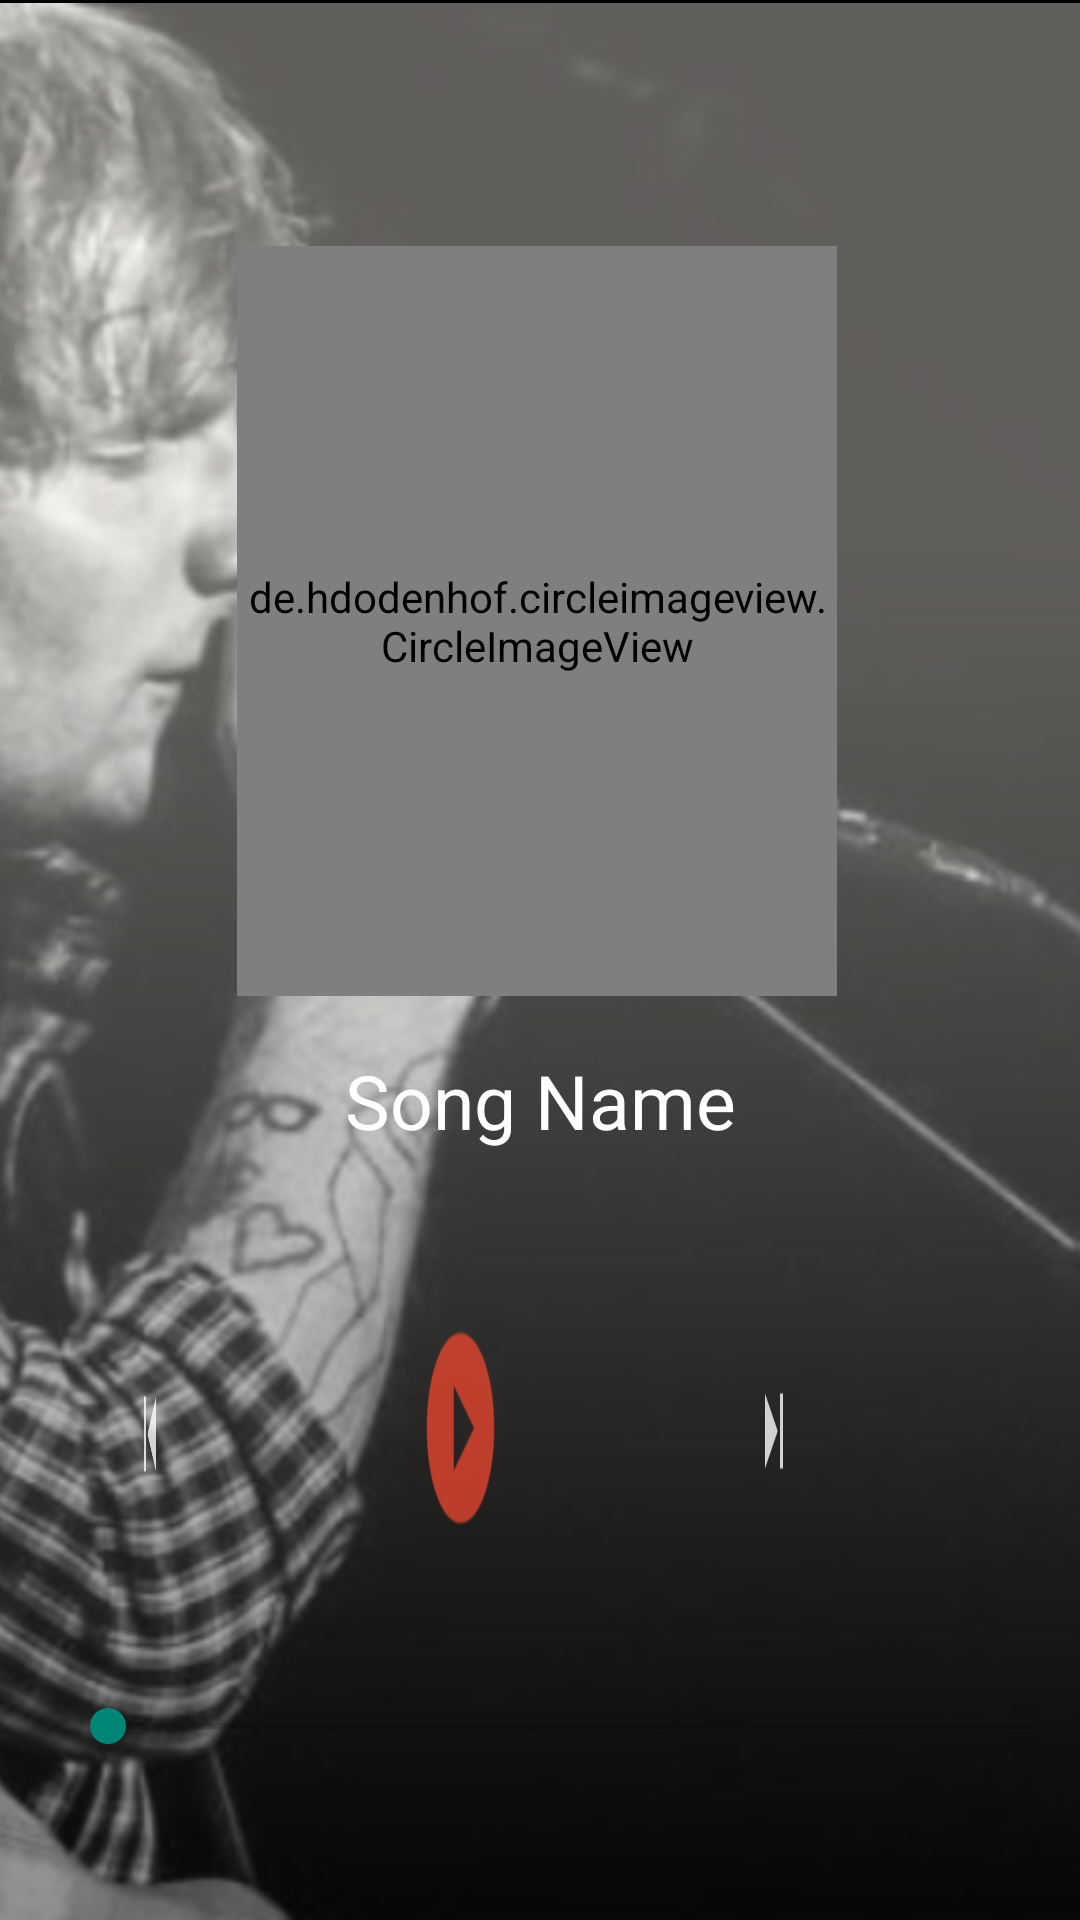

Point at icon controls on the screen. Image size 1080*1920, points as [x,y].
login next: [774,1431]
play: [460,1428]
